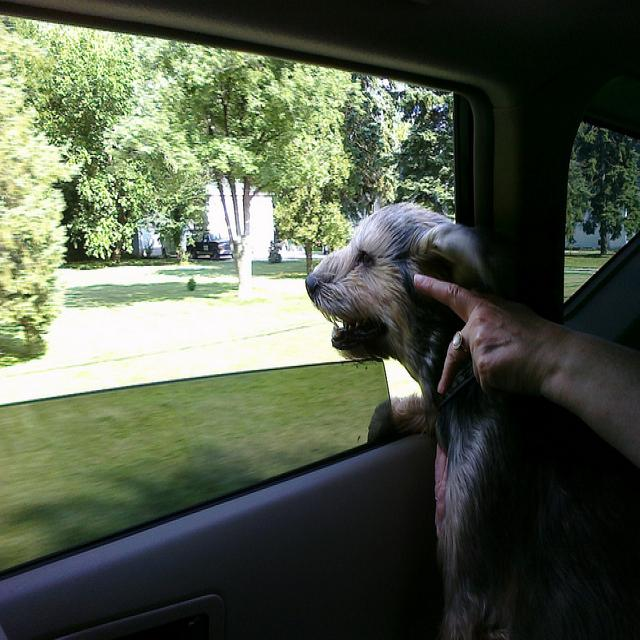Vehicle: (186, 232, 232, 260)
